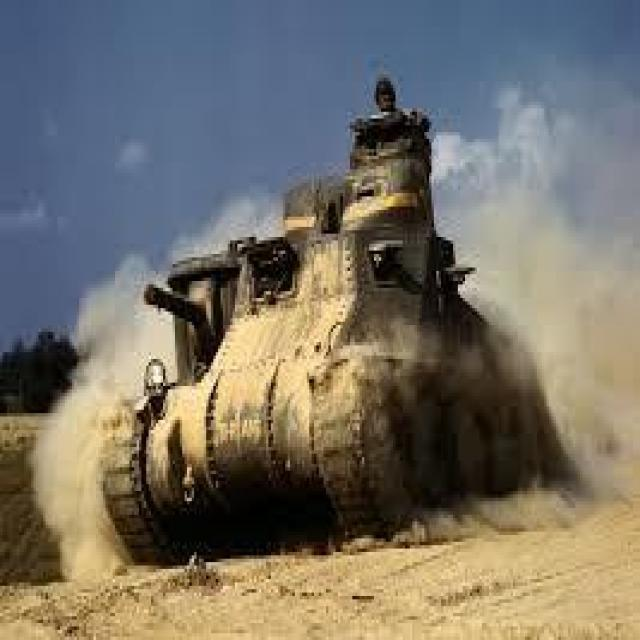MIL_MBT: (83, 93, 567, 598)
